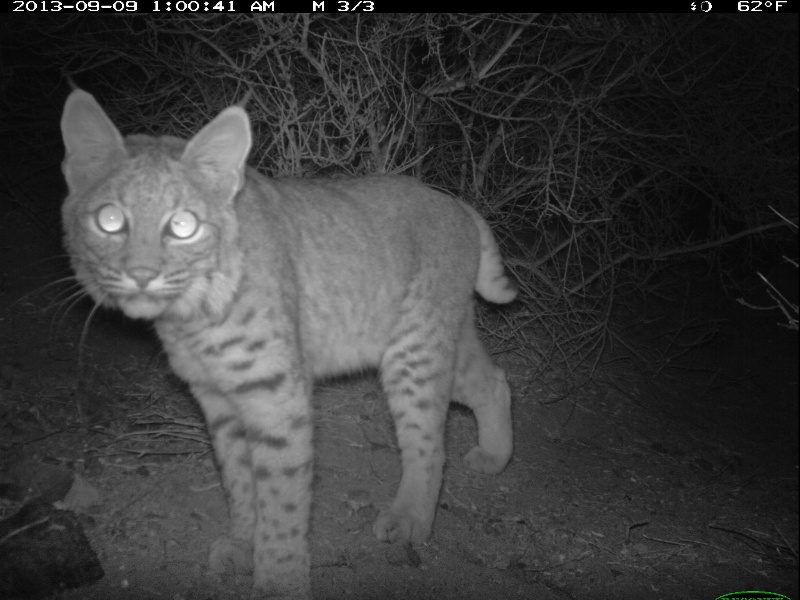cat: (50, 80, 525, 599)
